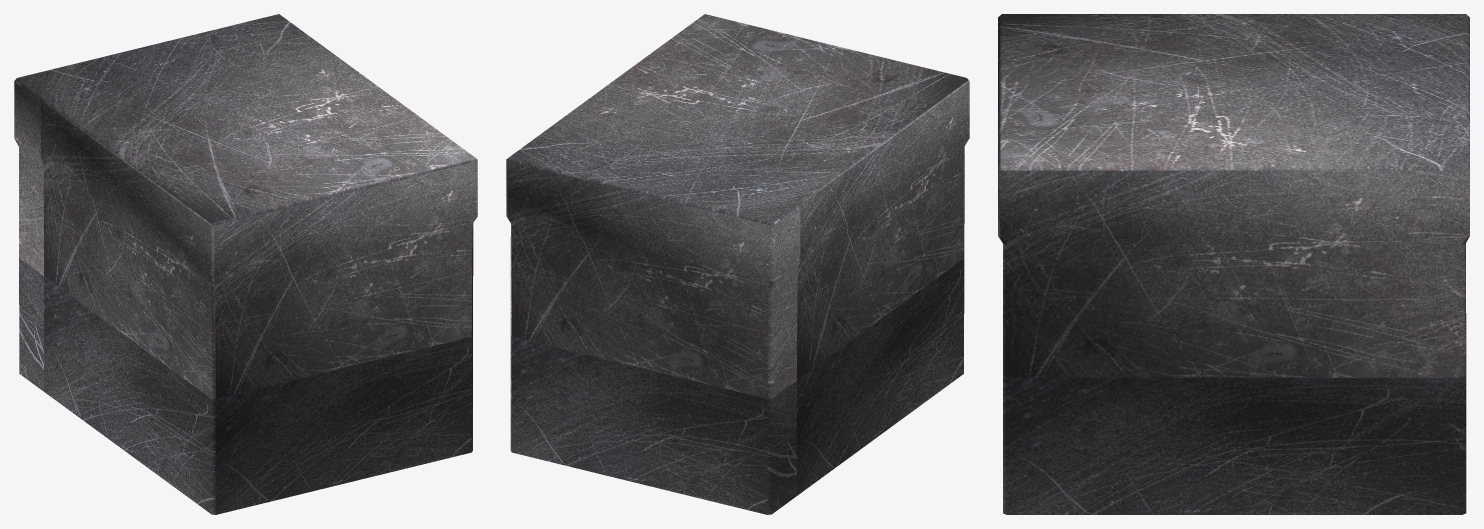
The model's file is Anvil.FBX.
3 renders of one model, left to right at view 1: azimuth 30°, elevation 25°; view 2: azimuth 150°, elevation 25°; view 3: azimuth 270°, elevation 25°, orthographic. The views are drawn at different scales.
Parts seen in each view (by area): view 1: Anvil; view 2: Anvil; view 3: Anvil.
Part boxes in pixels (x1,y1,x2,y2): Anvil: (14,14,477,514); Anvil: (506,14,969,514); Anvil: (998,14,1469,514).
Bounding box in the file's own units: 13.91 × 14.64 × 17.92.
Materials: 1 (1 with a texture image).
